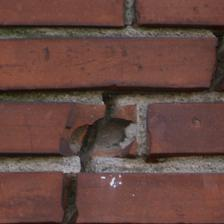Crack: (55, 104, 137, 219)
